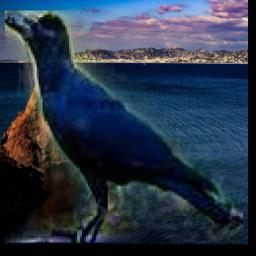Crow: (4, 11, 242, 244)
